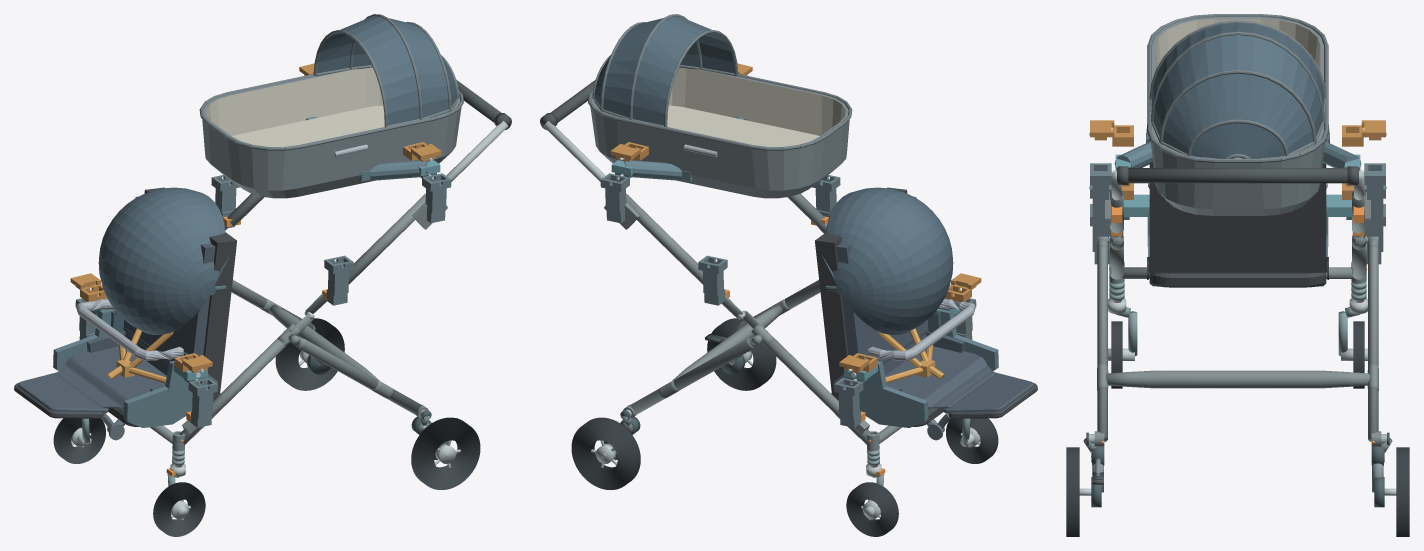
File: D05_w650_state1_wheel_S.glb
The picture shows the model from 3 angles, left to right: view 1: azimuth 30°, elevation 25°; view 2: azimuth 150°, elevation 25°; view 3: azimuth 270°, elevation 25°; orthographic projection. The views are drawn at different scales.
Parts seen in each view (by area): view 1: D05_Upper, D05_Lower, D05_Lower_Mount_L, RL_tire.008, RR_tire.008, FL_tire.008, FR_tire.008, V46_rear_leg_-1.009, main_lower_-1.009, D05_Upper_Mount_H, main_upper_-1.009, V46_rearbar.009 (+7 smaller); view 2: D05_Upper, D05_Lower, D05_Lower_Mount_L, RR_tire.008, FR_tire.008, RL_tire.008, FL_tire.008, V46_rear_leg_1.009, main_lower_1.009, D05_Upper_Mount_H, main_upper_1.009, V46_rearbar.009 (+7 smaller); view 3: D05_Upper, D05_Lower, V46_rearbar.009, round_handle.008, V46_rear_leg_1.009, V46_rear_leg_-1.009, D05_Upper_Mount_H, D05_Lower_Mount_L, RL_tire.008, RR_tire.008, Universal_Cabin_Receiver_H_1, Universal_Cabin_Receiver_H_-1 (+9 smaller).
Boxes of the visible parts, <box> form: D05_Upper: <box>199,14,463,198</box>; D05_Lower: <box>14,187,236,440</box>; D05_Lower_Mount_L: <box>53,298,217,427</box>; RL_tire.008: <box>411,417,480,489</box>; RR_tire.008: <box>275,318,344,390</box>; FL_tire.008: <box>153,482,205,536</box>; FR_tire.008: <box>53,418,105,463</box>; V46_rear_leg_-1.009: <box>297,338,421,414</box>; main_lower_-1.009: <box>179,339,288,444</box>; D05_Upper_Mount_H: <box>306,116,440,181</box>; main_upper_-1.009: <box>348,193,425,284</box>; V46_rearbar.009: <box>269,304,379,380</box>; D05_Upper: <box>588,14,852,198</box>; D05_Lower: <box>815,187,1037,440</box>; D05_Lower_Mount_L: <box>834,298,998,427</box>; RR_tire.008: <box>571,417,640,489</box>; FR_tire.008: <box>846,482,898,536</box>; RL_tire.008: <box>707,318,776,390</box>; FL_tire.008: <box>946,418,998,463</box>; V46_rear_leg_1.009: <box>630,338,754,414</box>; main_lower_1.009: <box>763,339,872,444</box>; D05_Upper_Mount_H: <box>611,116,745,181</box>; main_upper_1.009: <box>626,193,703,284</box>; V46_rearbar.009: <box>672,304,782,380</box>; D05_Upper: <box>1147,14,1328,215</box>; D05_Lower: <box>1146,125,1329,287</box>; V46_rearbar.009: <box>1106,370,1369,388</box>; round_handle.008: <box>1117,168,1358,183</box>; V46_rear_leg_1.009: <box>1368,244,1378,441</box>; V46_rear_leg_-1.009: <box>1097,244,1107,441</box>; D05_Upper_Mount_H: <box>1111,141,1364,173</box>; D05_Lower_Mount_L: <box>1124,194,1351,272</box>; RL_tire.008: <box>1066,447,1079,536</box>; RR_tire.008: <box>1396,447,1409,536</box>; Universal_Cabin_Receiver_H_1: <box>1364,163,1385,223</box>; Universal_Cabin_Receiver_H_-1: <box>1090,163,1111,223</box>.
Bounding box in the file's own units: 1.35 × 1.25 × 0.766.
